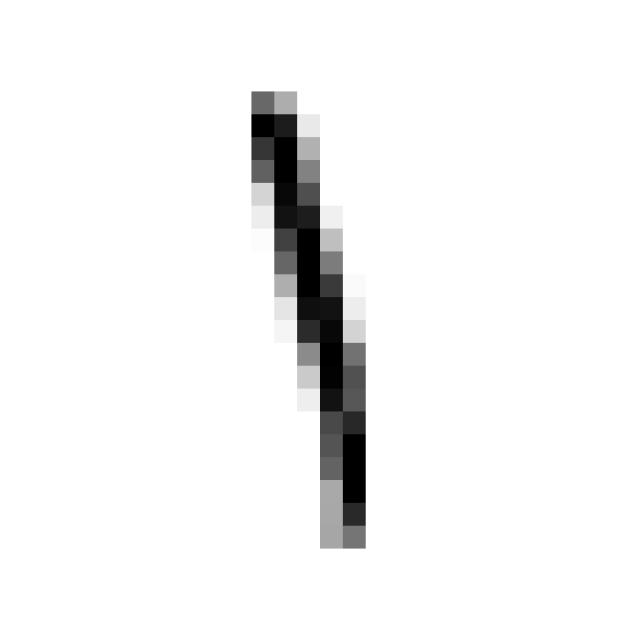1 -one-: (229, 73, 390, 561)
